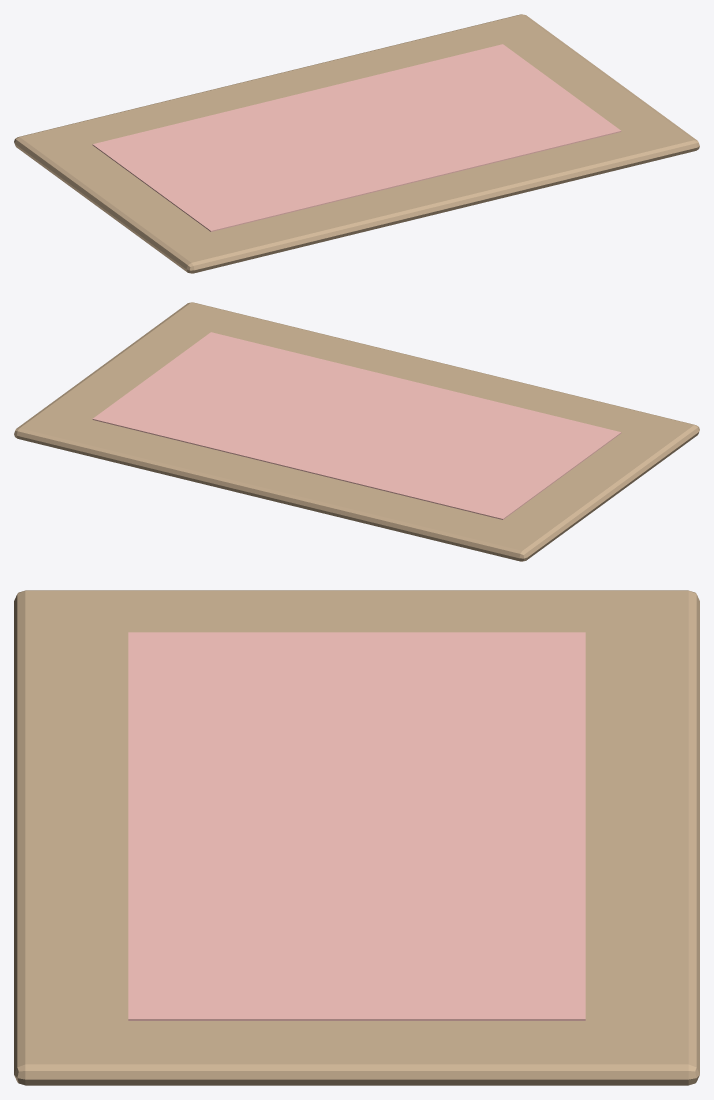
File: capacho.glb
3 renders of one model, top to bottom at view 1: azimuth 30°, elevation 25°; view 2: azimuth 150°, elevation 25°; view 3: azimuth 270°, elevation 25°, orthographic. The views are drawn at different scales.
Visible parts, largest first — view 1: capacho; view 2: capacho; view 3: capacho.
Part boxes in pixels (x1,y1,x2,y2): capacho: (14,14,699,273); capacho: (14,302,699,561); capacho: (14,590,699,1085).
Bounding box in the file's own units: 1 × 0.022 × 0.6.
